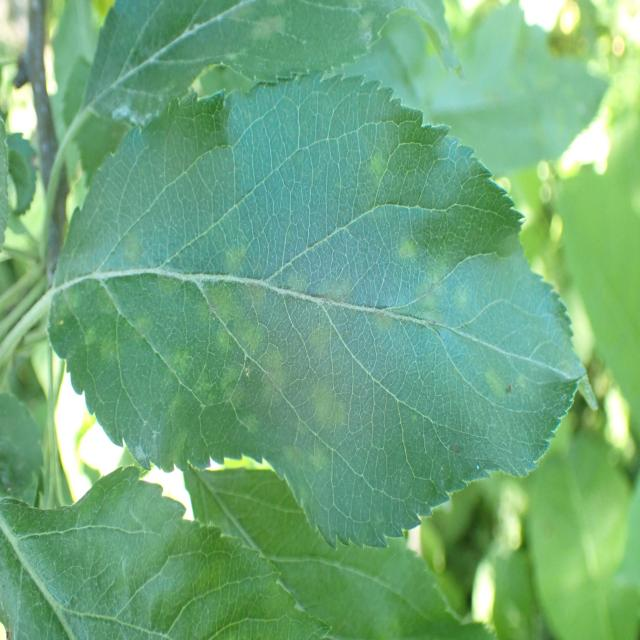scab: (42, 147, 559, 490)
